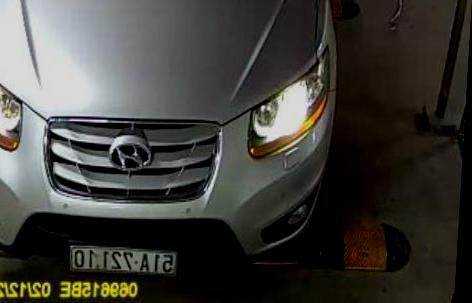License_Plate: (65, 236, 184, 279)
